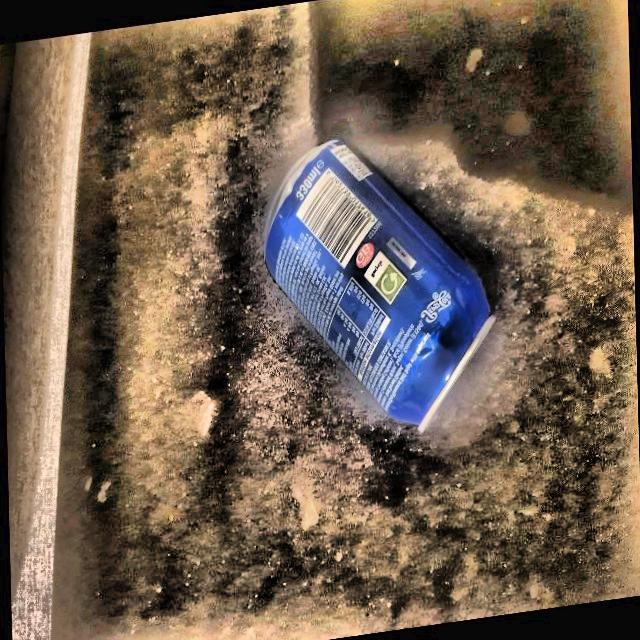pepsi-can: (256, 138, 499, 438)
